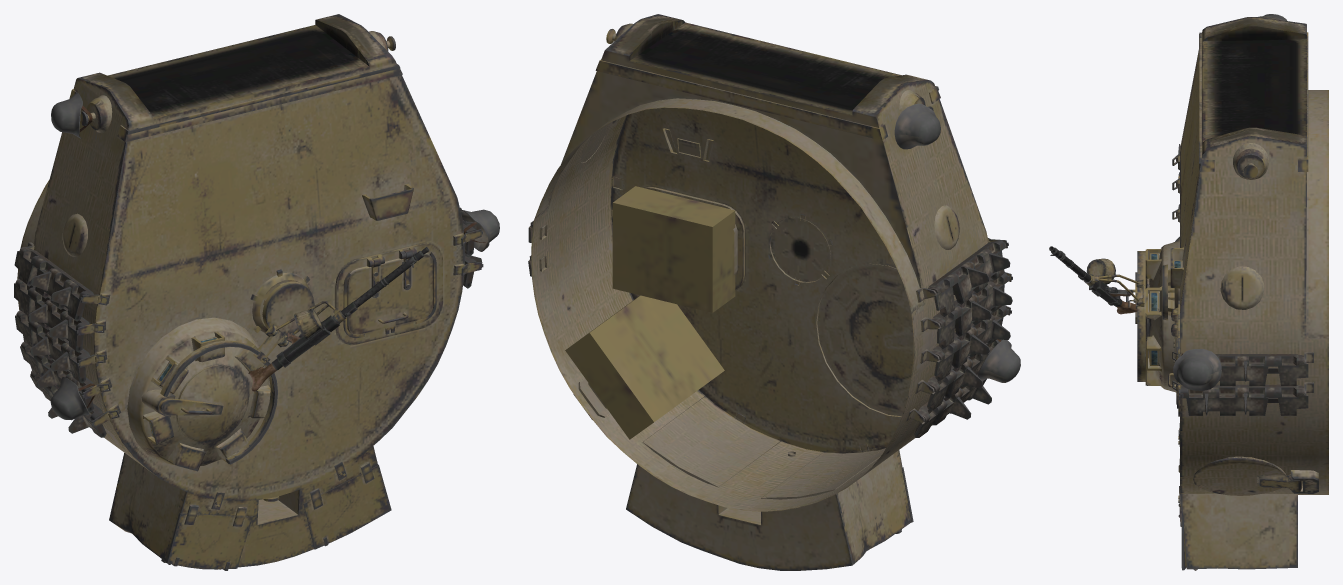
Rendered from Turret_01.glb.
3 views of the same model, side by side, from view 1: azimuth 30°, elevation 25°; view 2: azimuth 150°, elevation 25°; view 3: azimuth 270°, elevation 25° (orthographic). The views are drawn at different scales.
Visible parts, largest first — view 1: set_0_group_0; view 2: set_0_group_0; view 3: set_0_group_0.
Part boxes in pixels (bbox=[...]): set_0_group_0: bbox=[14, 14, 499, 570]; set_0_group_0: bbox=[528, 14, 1020, 570]; set_0_group_0: bbox=[1049, 14, 1328, 570].
Size of the model in its own units: 2.79 by 2.89 by 1.59.
1 material, 1 textured.
